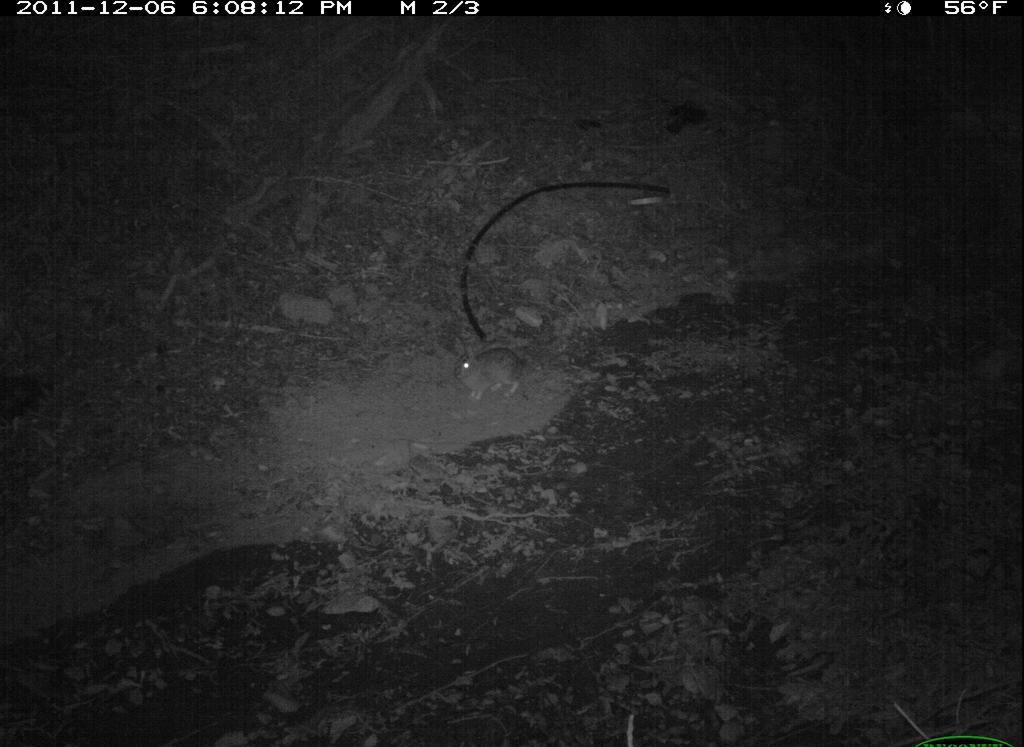rabbit: (449, 336, 534, 406)
